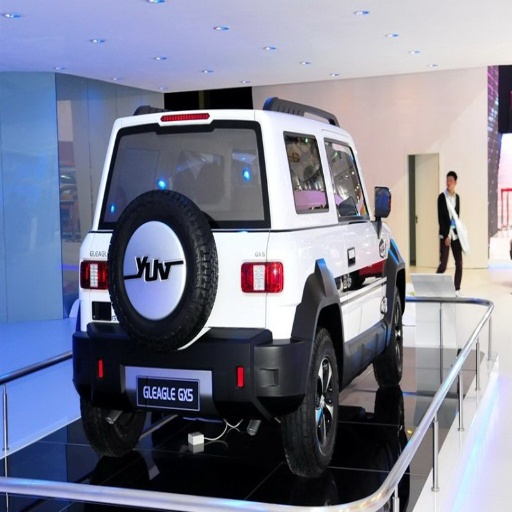back_bumper: (75, 291, 308, 419)
back_right_door: (328, 213, 359, 342)
tailgate: (91, 227, 175, 320)
trunk: (103, 137, 319, 344)
